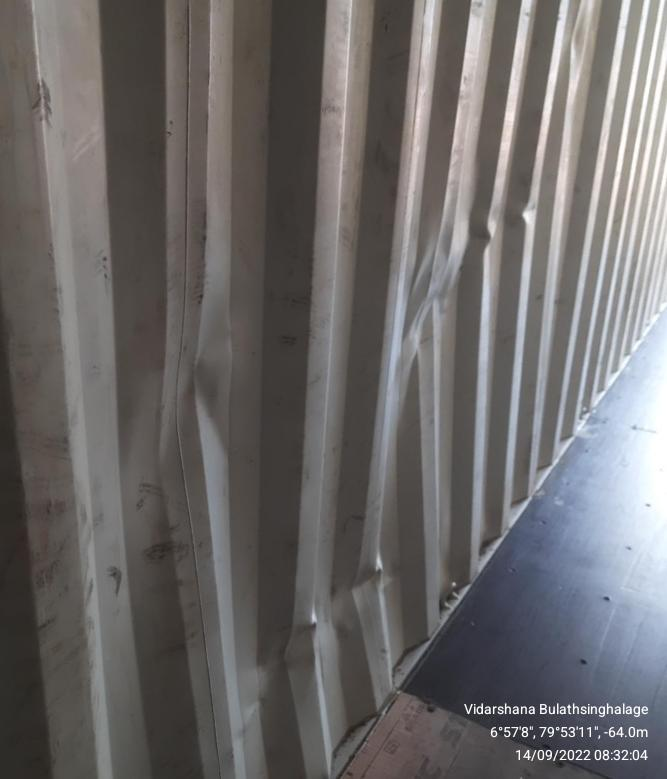moderate: (91, 171, 562, 662)
